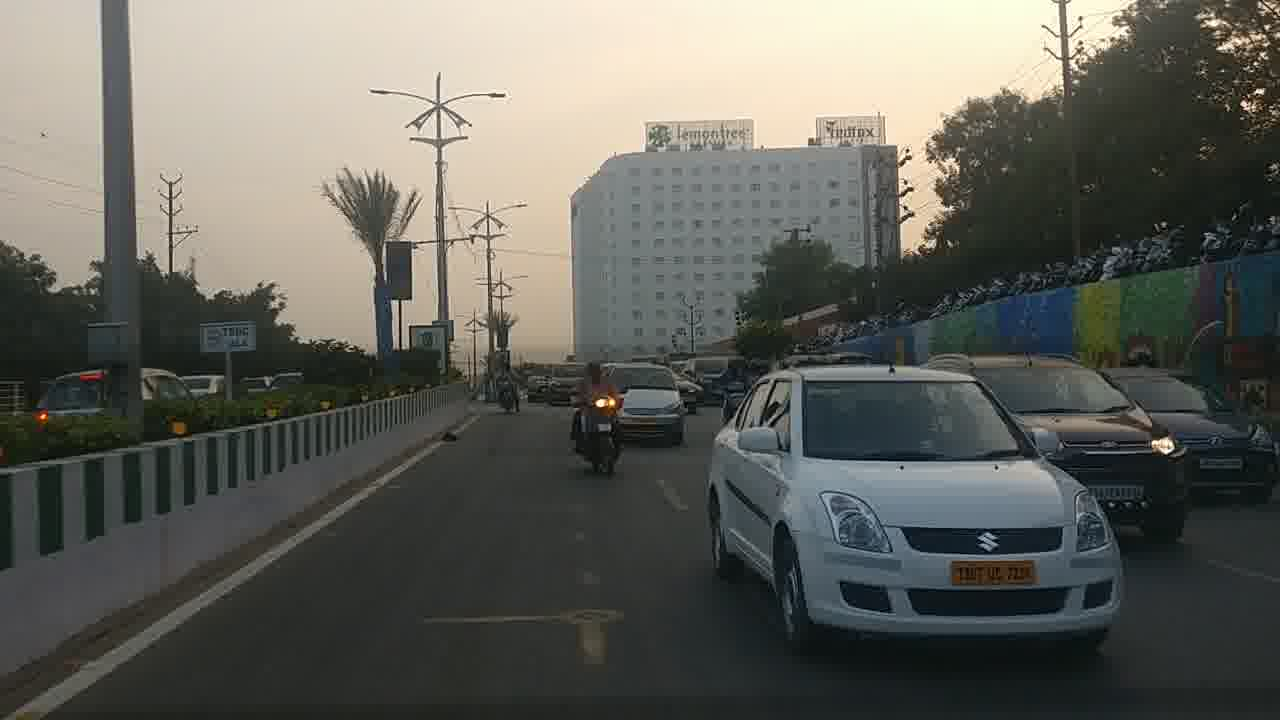swift desire: (705, 371, 1117, 636)
